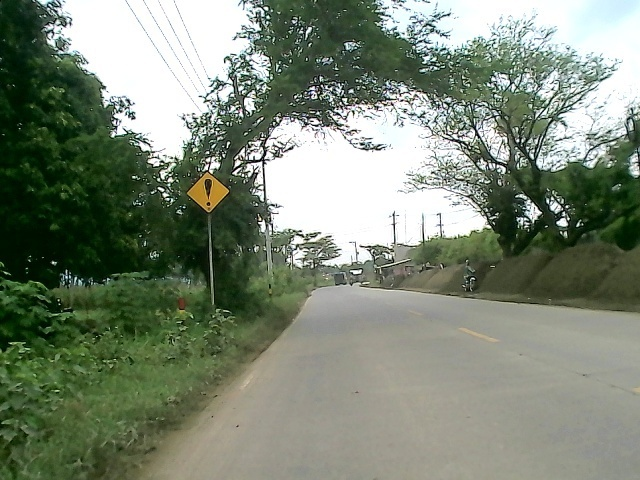Hati-hati: (181, 170, 232, 214)
